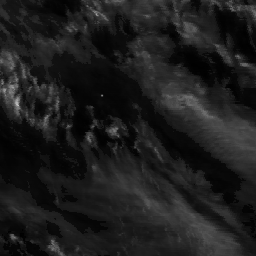Target: (99, 93, 103, 97)
